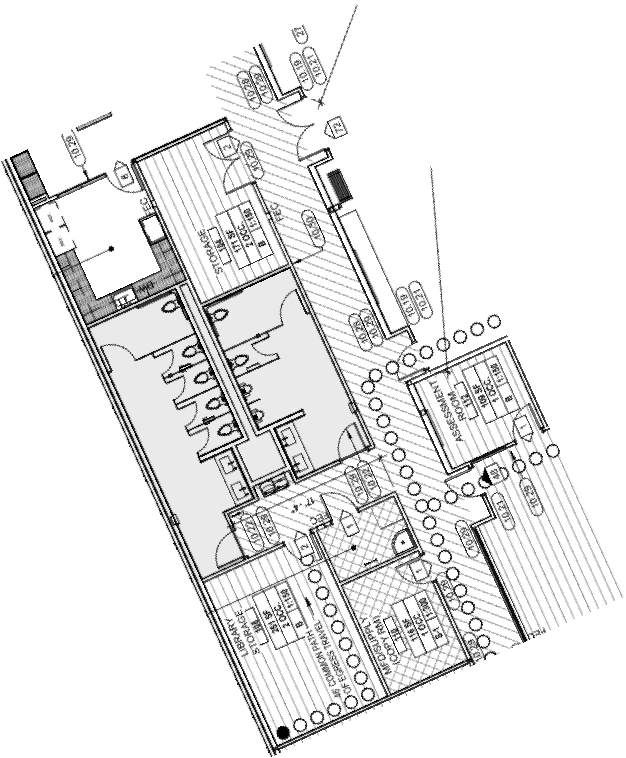door: (509, 399, 554, 451), (436, 463, 490, 506), (315, 484, 364, 529), (390, 547, 442, 589), (100, 154, 150, 196), (390, 337, 432, 382), (210, 524, 250, 571), (335, 415, 370, 465), (94, 336, 137, 375), (278, 285, 316, 329), (185, 413, 210, 456), (149, 341, 178, 378), (172, 388, 201, 425), (163, 363, 192, 399), (250, 330, 286, 359)
double door: (197, 123, 266, 199), (273, 86, 332, 167)
